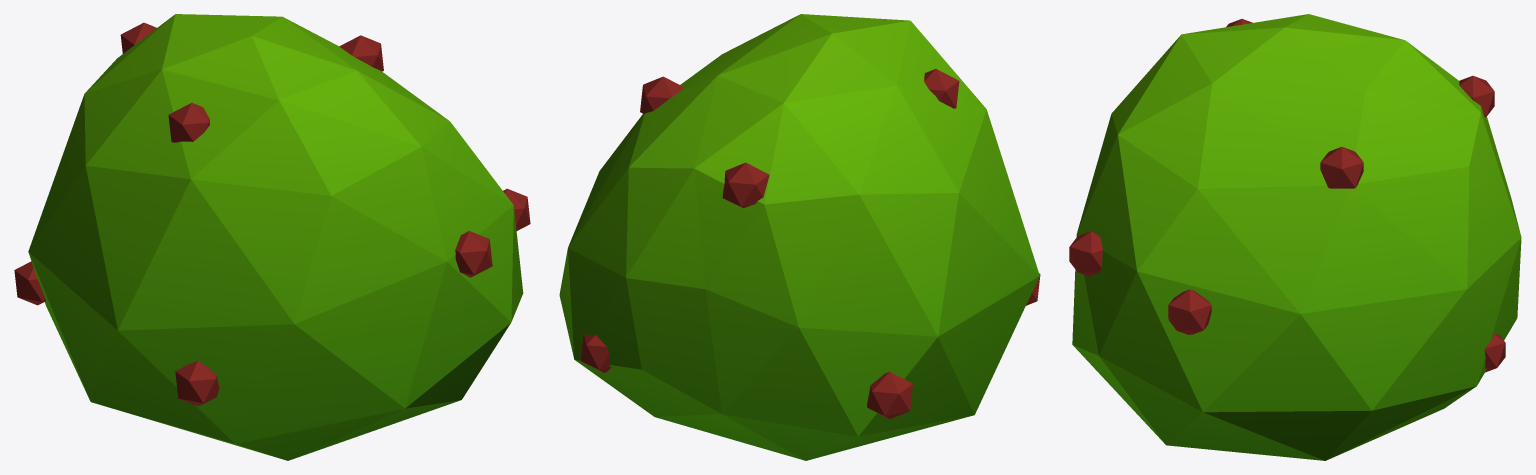
Rendered from bush_4.glb.
3 renders of one model, left to right at view 1: azimuth 30°, elevation 25°; view 2: azimuth 150°, elevation 25°; view 3: azimuth 270°, elevation 25°, orthographic. The views are drawn at different scales.
Parts seen in each view (by area): view 1: bush_4; view 2: bush_4; view 3: bush_4.
Boxes of the visible parts, left/top/right/bottom form: bush_4: left=14, top=14, right=530, bottom=460; bush_4: left=559, top=14, right=1040, bottom=460; bush_4: left=1069, top=14, right=1521, bottom=460.
Size of the model in its own units: 0.9903 by 0.9168 by 0.9945.
1 material, 1 textured.
